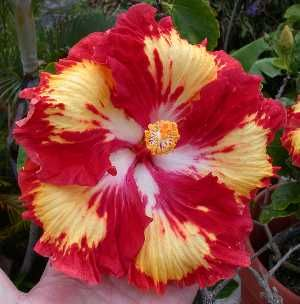Hibiscus: (9, 9, 286, 286)
